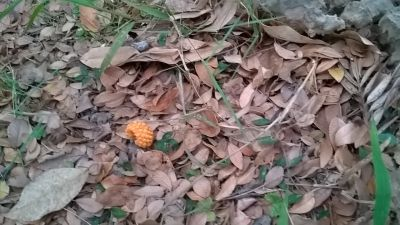eggs: (124, 118, 155, 150)
